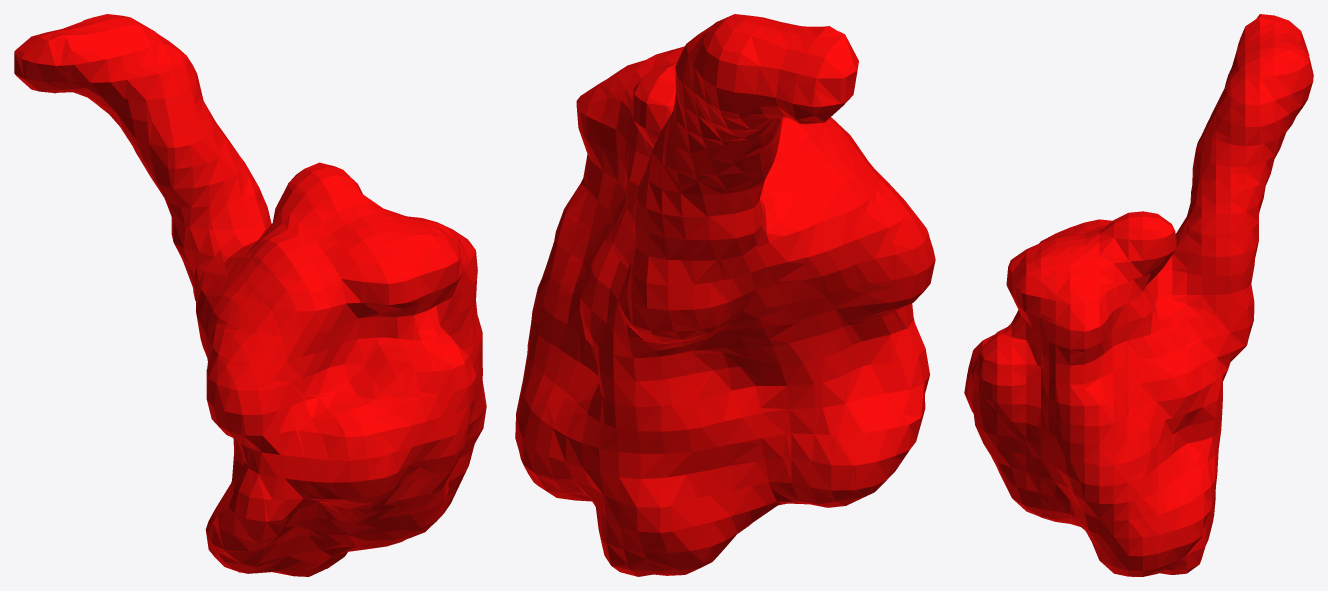
The model's file is fdoH_coarse.dae.
3 views of the same model, side by side, from view 1: azimuth 30°, elevation 25°; view 2: azimuth 150°, elevation 25°; view 3: azimuth 270°, elevation 25° (orthographic). The views are drawn at different scales.
Parts seen in each view (by area): view 1: fdoH; view 2: fdoH; view 3: fdoH.
Boxes of the visible parts, x1,y1,x2,y2 form: fdoH: [14, 14, 486, 576]; fdoH: [515, 14, 935, 576]; fdoH: [964, 14, 1313, 576].
Size of the model in its own units: 58.84 by 83.49 by 56.41.
